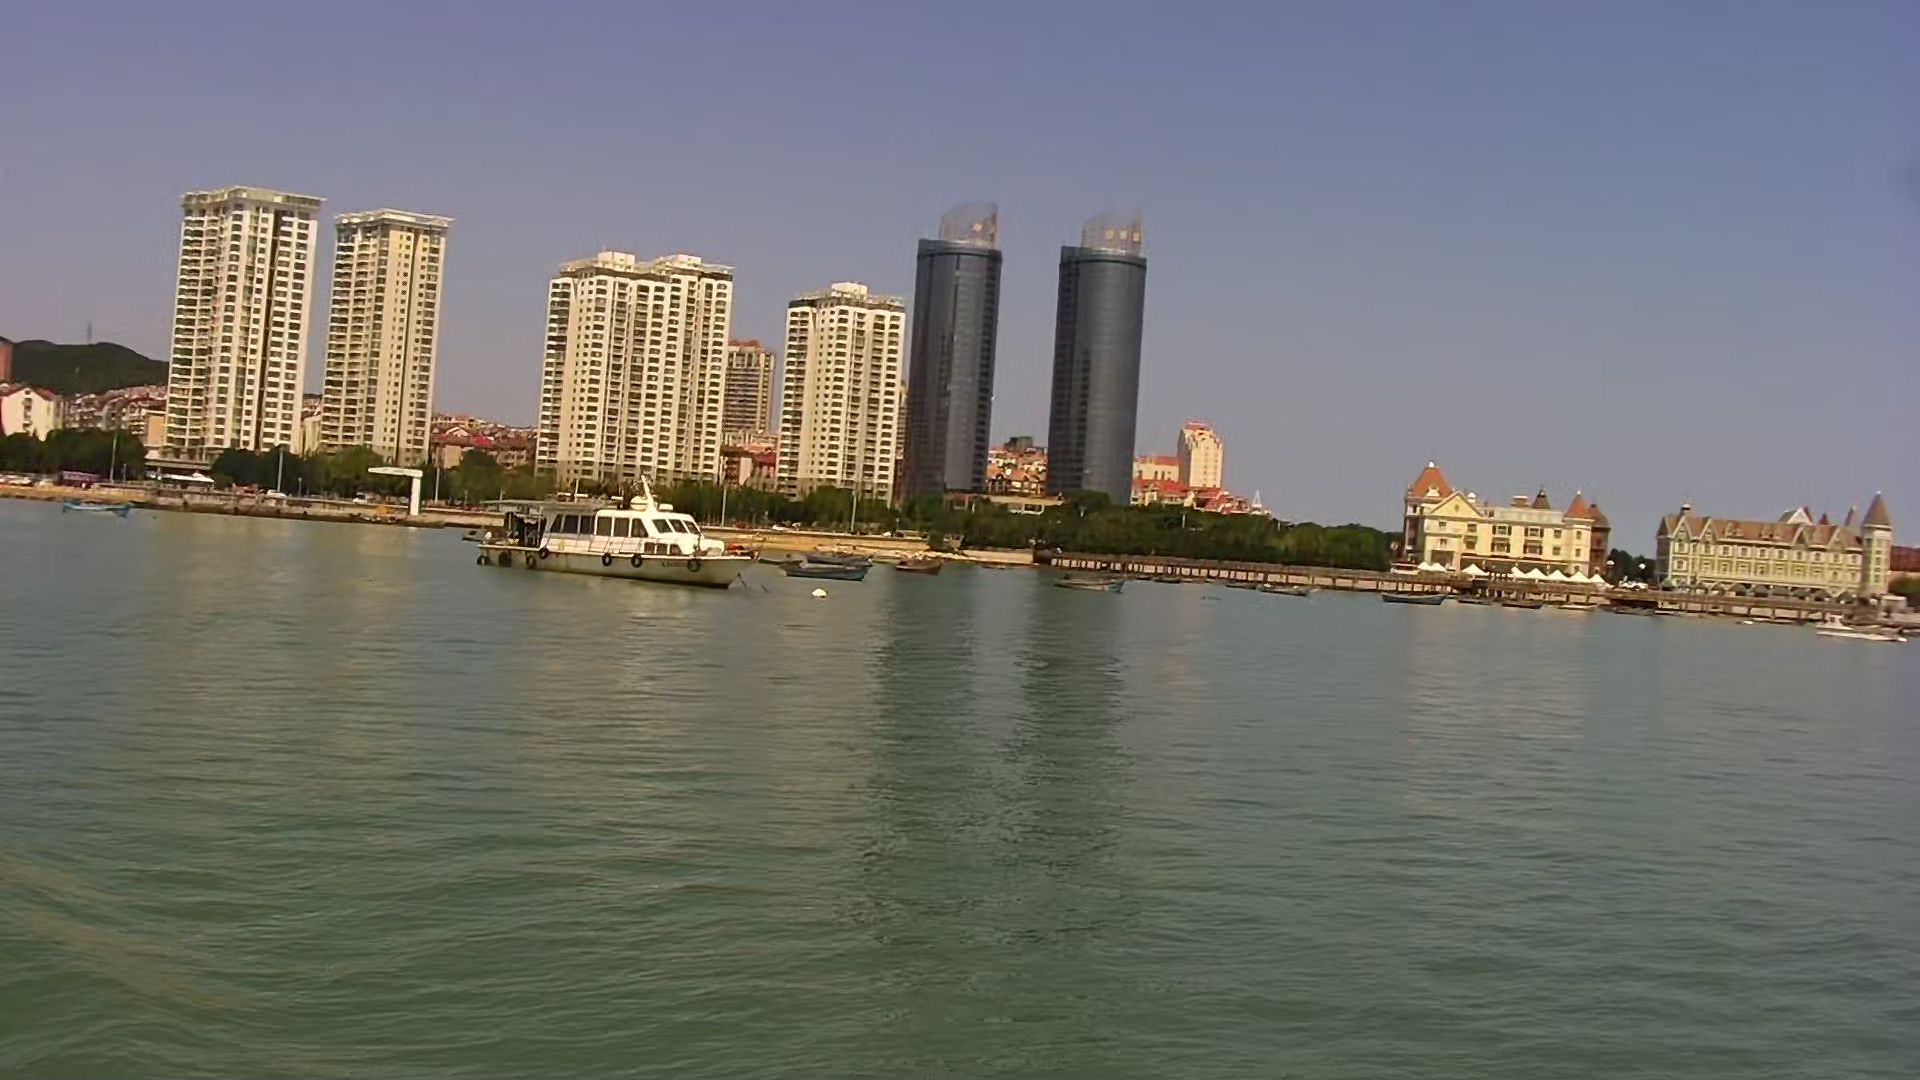boat: (781, 554, 870, 588), (889, 550, 951, 578)
harbor: (1025, 539, 1873, 615)
ship: (471, 477, 758, 592)
